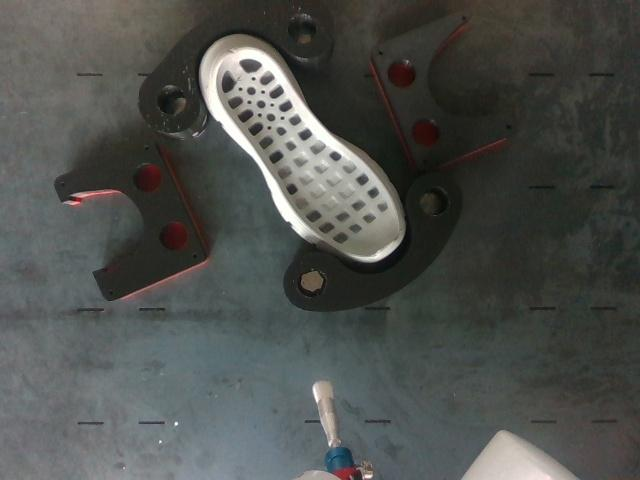shoes: (215, 47, 399, 259)
